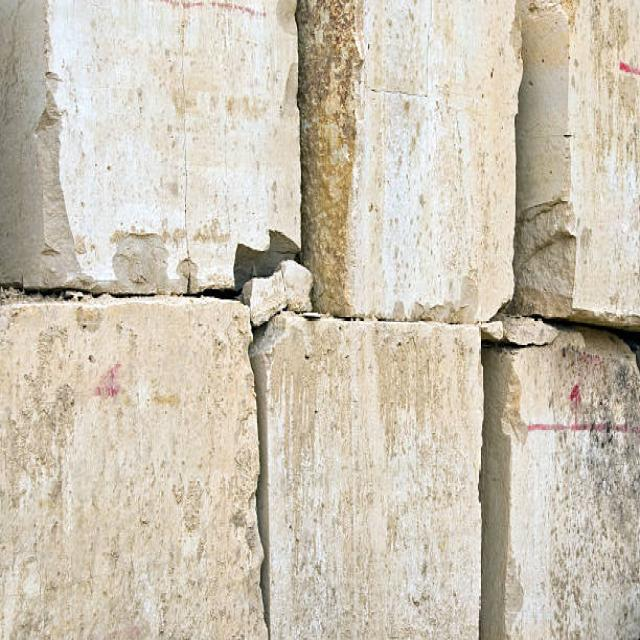Sedimentary: (1, 2, 638, 636)
